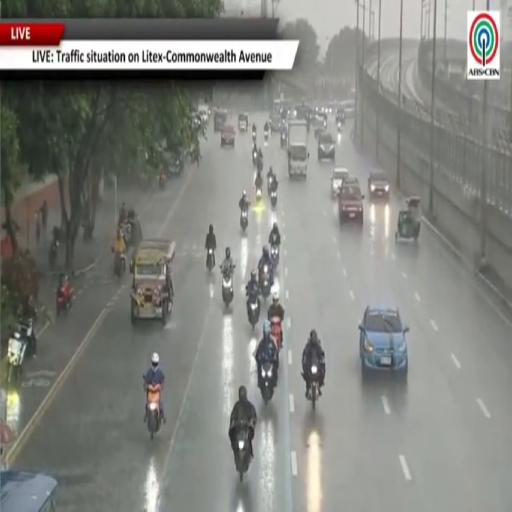car: (359, 306, 408, 377), (338, 179, 364, 226), (368, 170, 390, 199), (331, 168, 349, 198), (318, 132, 335, 162), (221, 124, 235, 147), (214, 109, 227, 132), (313, 112, 327, 132), (197, 104, 210, 125), (270, 112, 281, 134), (237, 113, 249, 132), (342, 100, 354, 118), (336, 108, 345, 127)
jeepney: (131, 238, 175, 324), (0, 471, 59, 511)
motorcycle: (6, 332, 28, 382), (235, 424, 251, 482), (146, 384, 161, 440), (261, 362, 275, 404), (56, 281, 73, 315), (309, 362, 320, 409), (222, 266, 234, 307), (248, 295, 260, 329), (259, 265, 270, 299), (48, 239, 59, 271), (271, 317, 282, 349), (114, 253, 125, 277), (121, 221, 131, 246), (270, 245, 279, 267), (206, 248, 214, 271), (240, 210, 248, 231), (159, 174, 167, 190), (270, 190, 277, 207), (268, 176, 274, 195), (256, 186, 262, 202), (257, 157, 263, 172), (252, 152, 257, 167), (264, 130, 269, 141), (337, 121, 342, 132), (252, 131, 256, 142)
tricycle: (396, 197, 421, 242)
truck: (288, 120, 308, 178)
